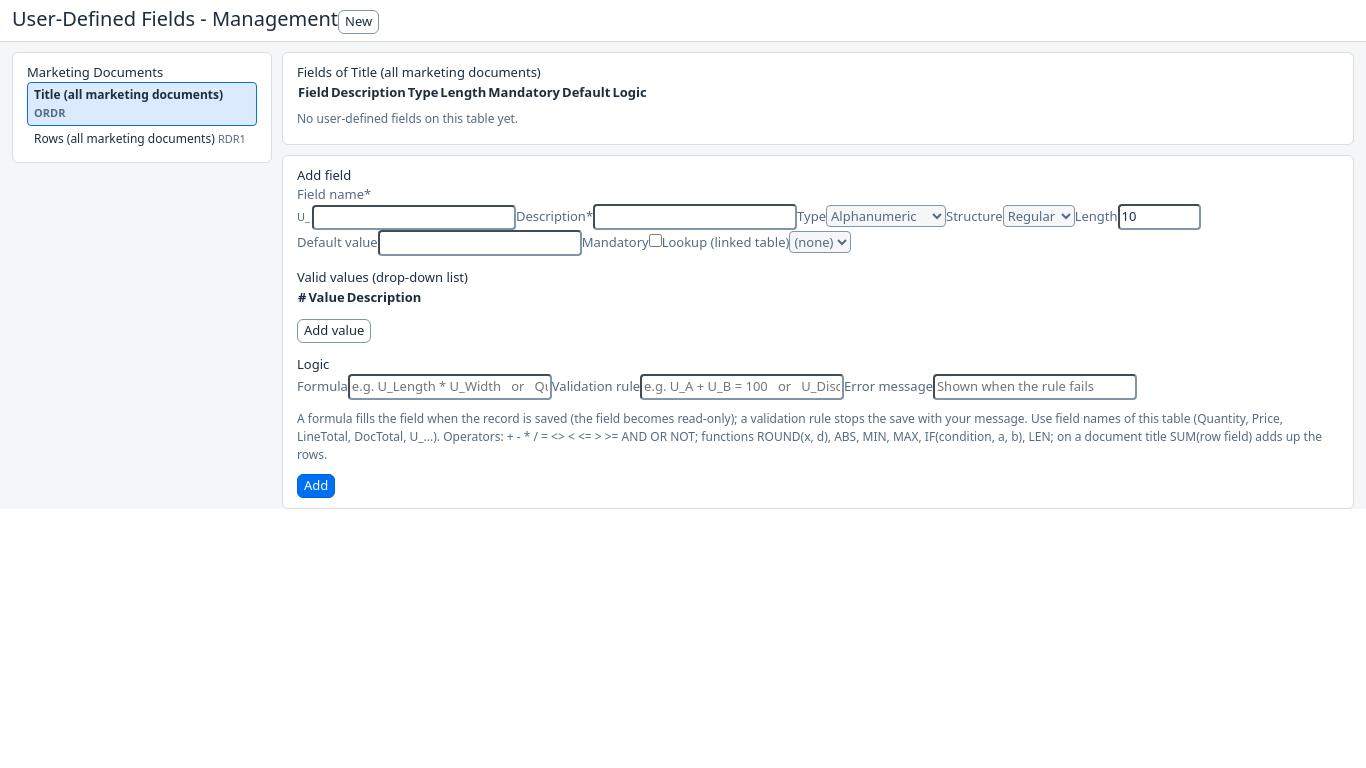
Test: edits a row field: name and type are fixed, errors are shown
Click the button "Rows (all marketing documents) RDR1" at (142, 139), box 27,126 -> 257,152
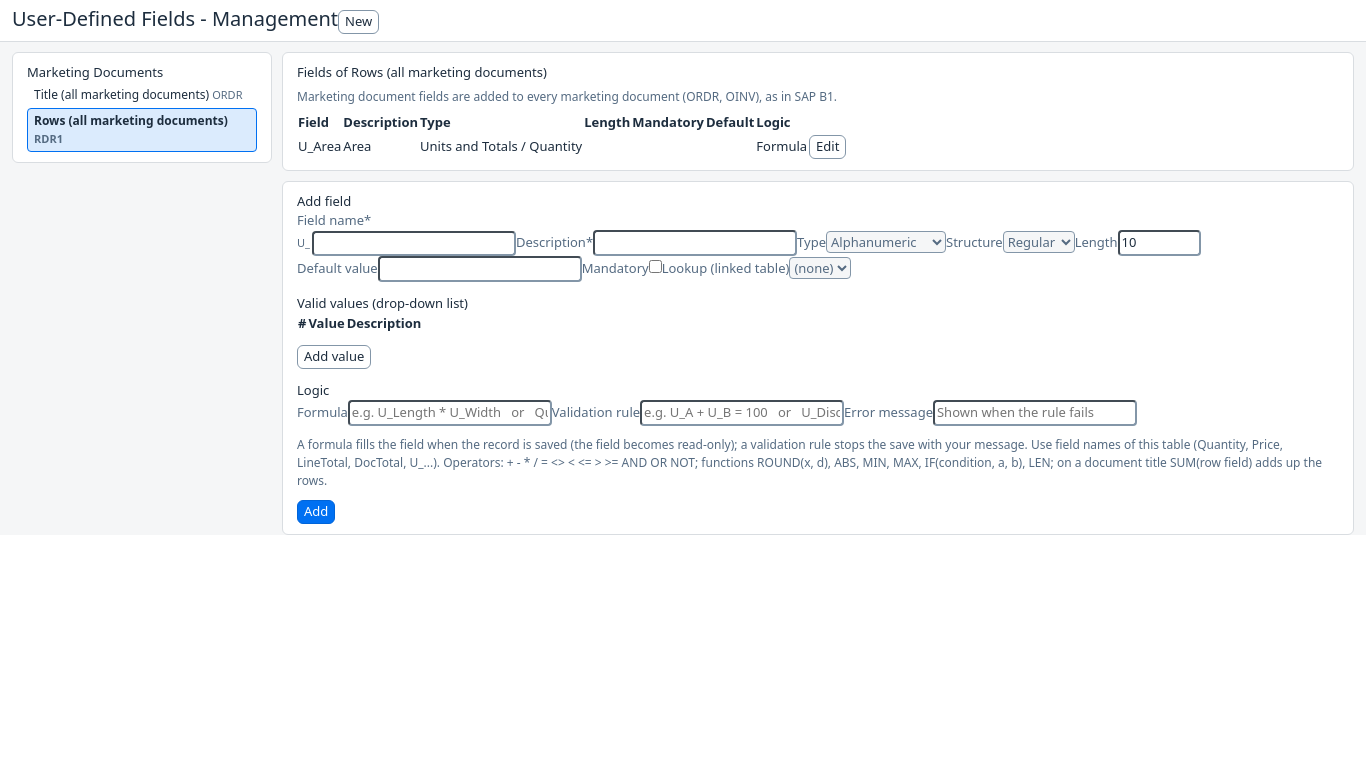
Click the button "Edit" at (828, 147), box 809,135 -> 846,159
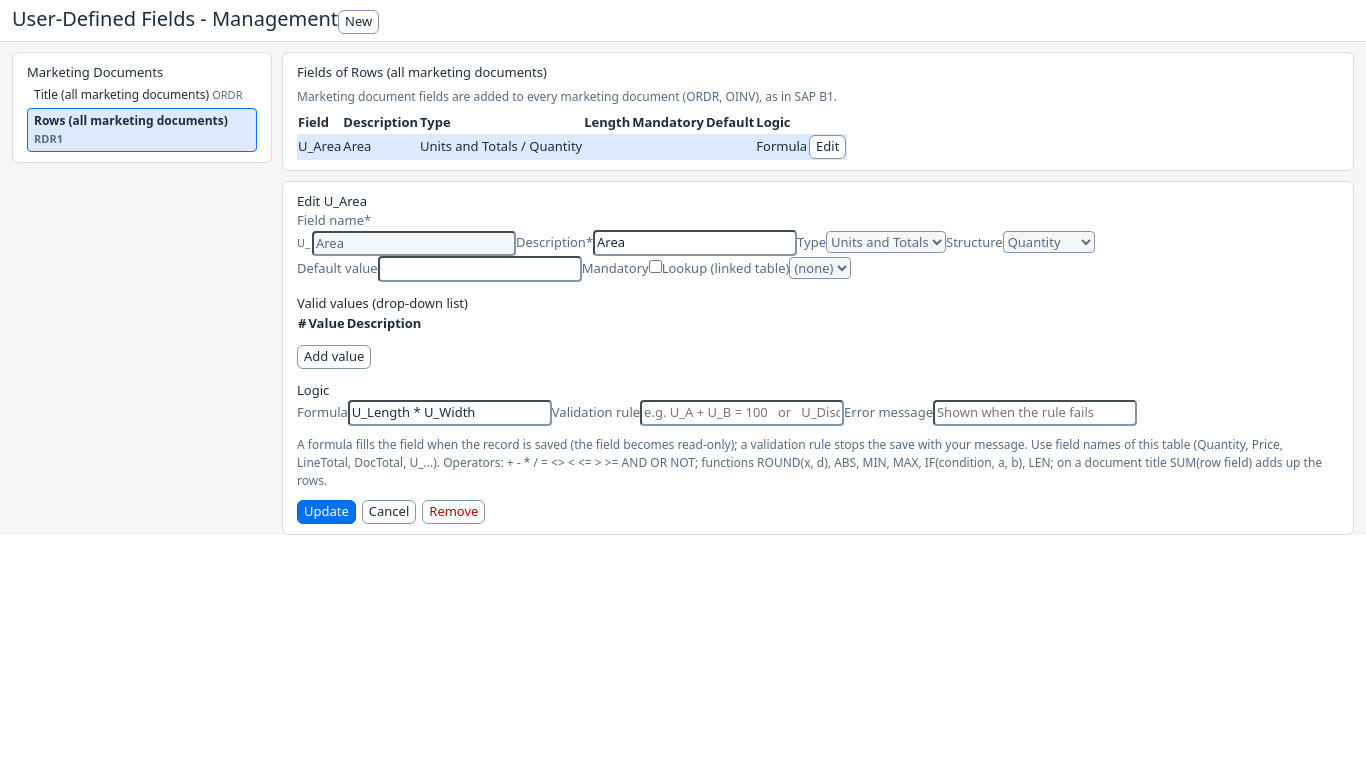
Expected: the dropdown labelled "Type" is disabled, 826,231 -> 946,253
Expected: the field labelled "Formula" holds "U_Length * U_Width"
Replace the text in the field labelled "Formula" with "U_Nope * 2" at (450, 413), box 348,400 -> 552,426
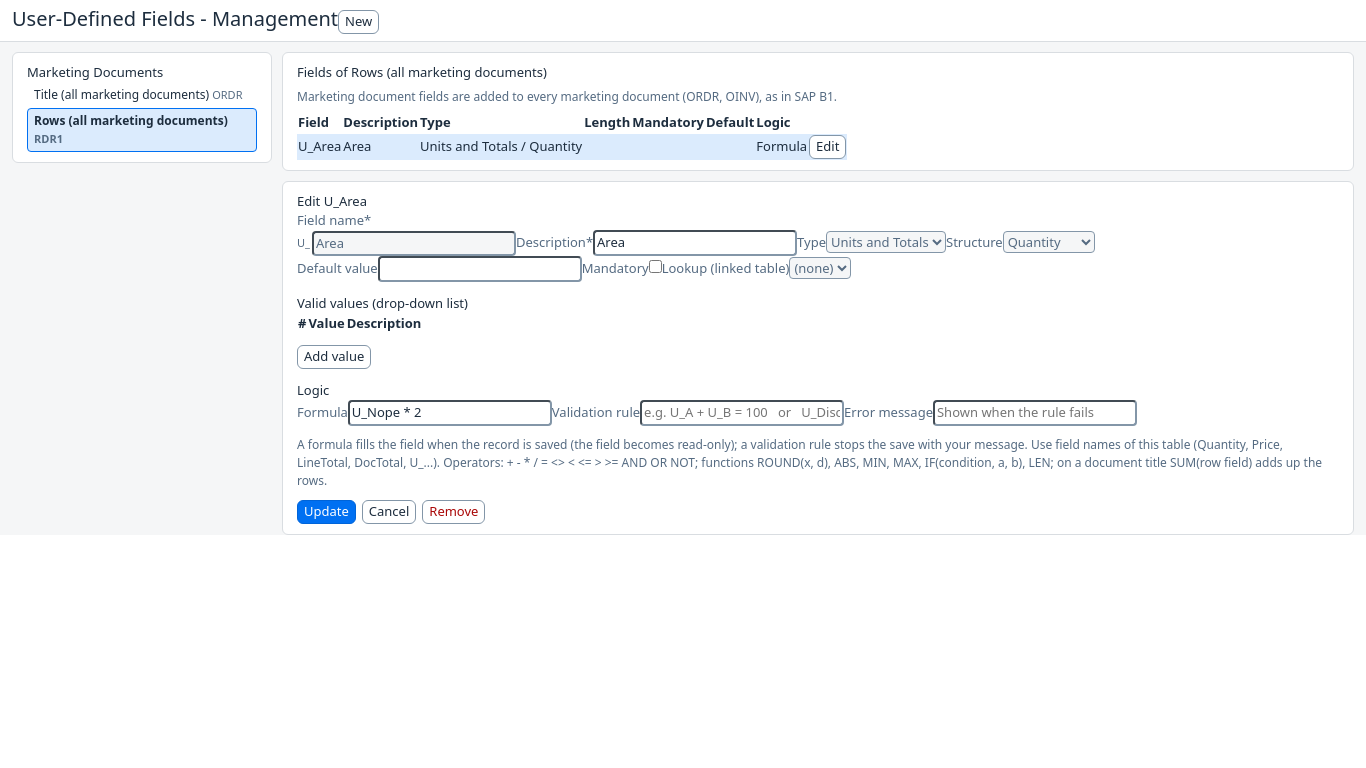
Click the button "Update" at (326, 512), box 297,500 -> 356,524
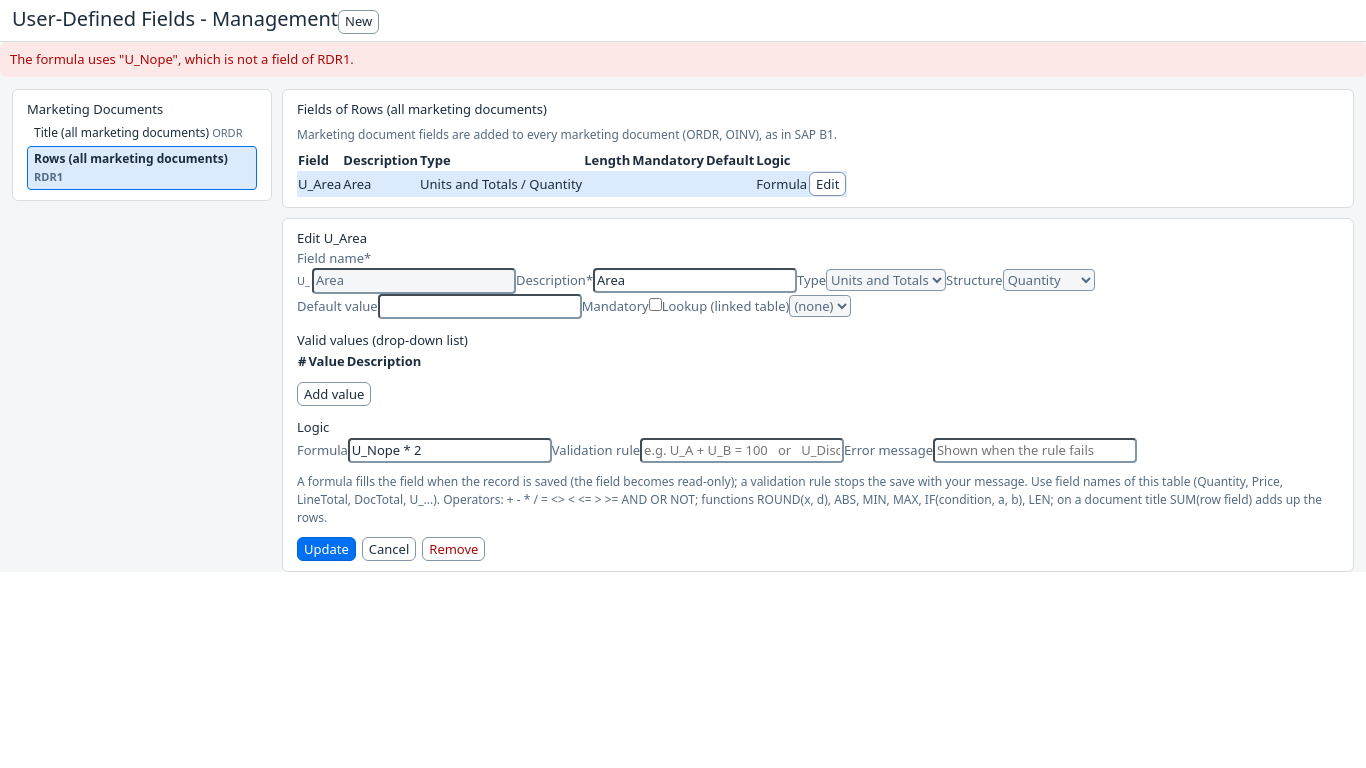
Expected: the message shows "U_Nope", 10,50 -> 354,68
